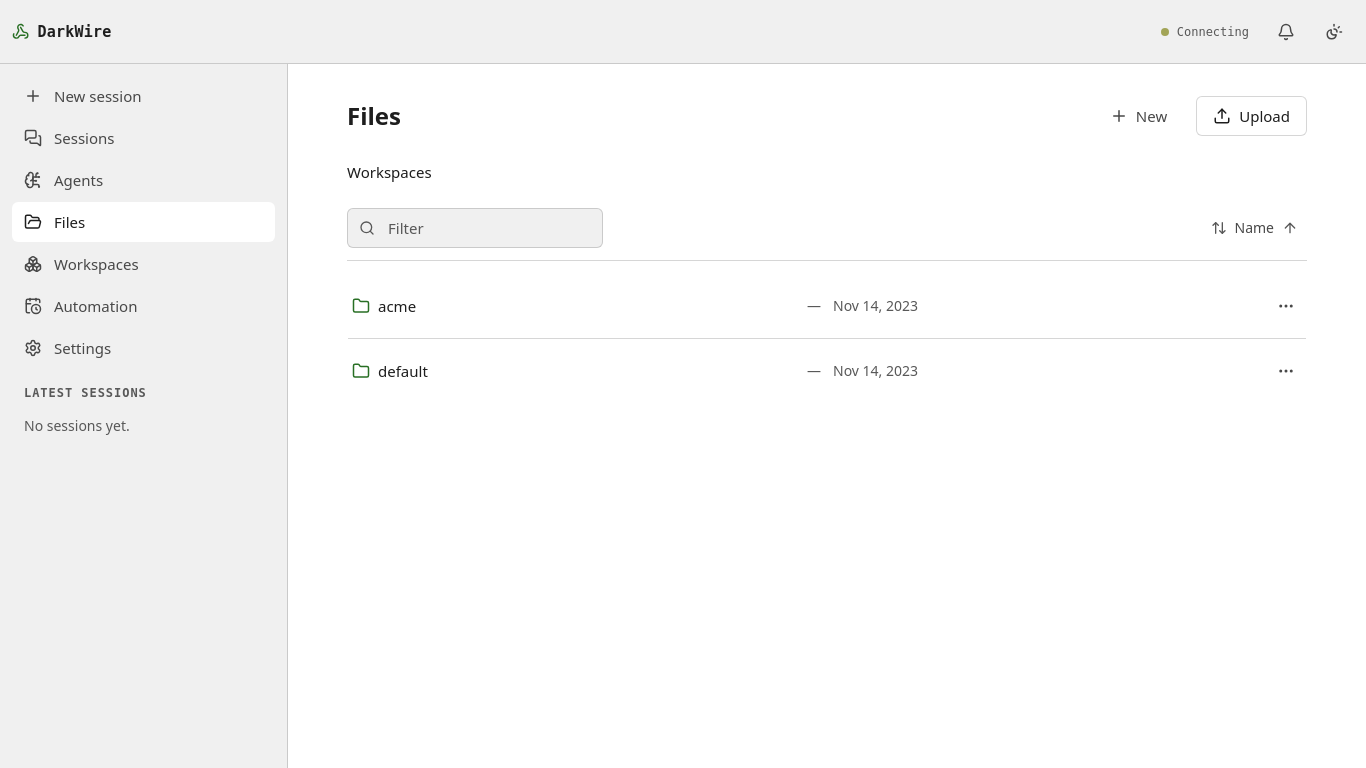
the workspaces directory › will not delete the default workspace’s folder
The width and height of the screenshot is (1366, 768).
Click the button named "Actions for default": click(1286, 371) [1266,351,1306,391]
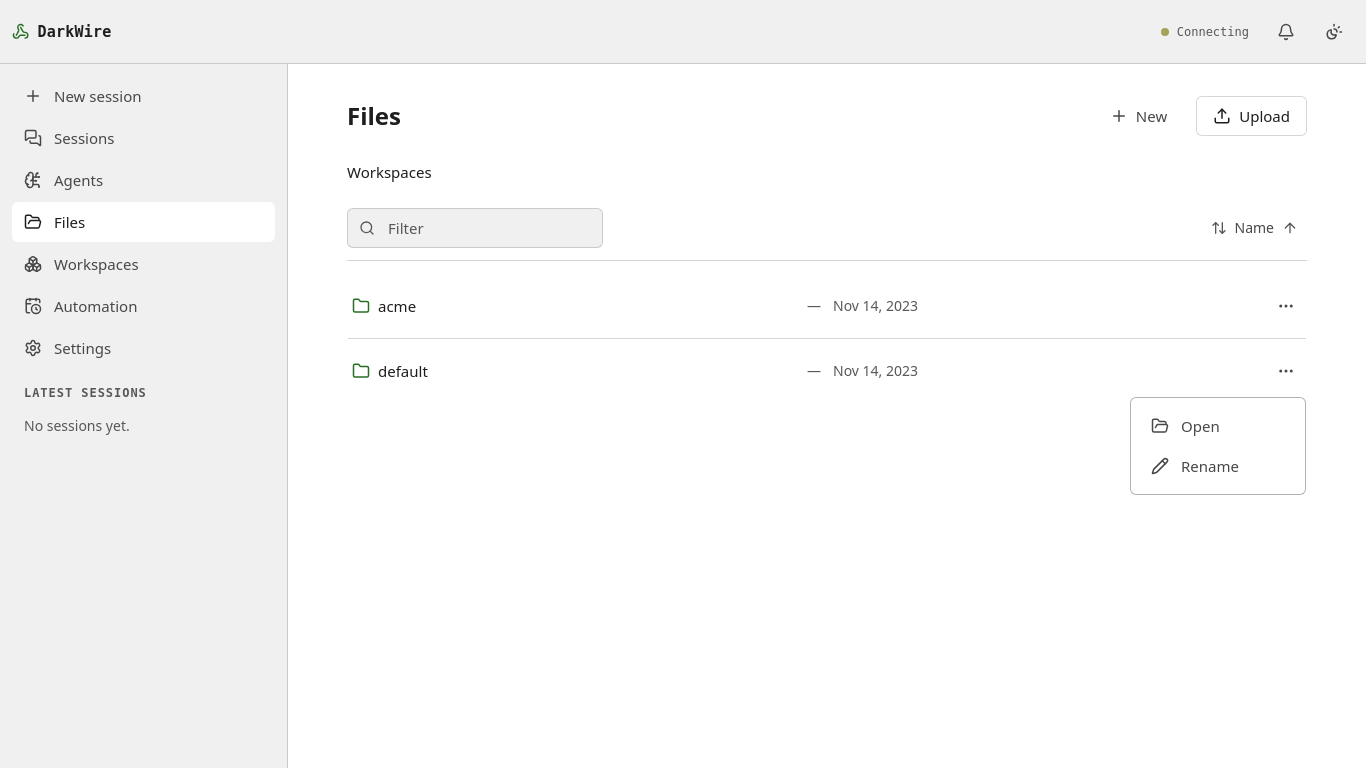
Now the menu item "Rename" is shown, box [1151,456,1239,476]
